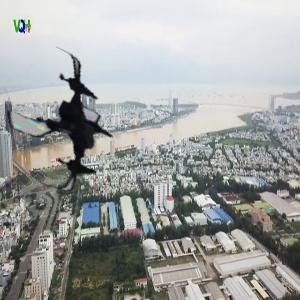drone: (1, 59, 133, 191)
